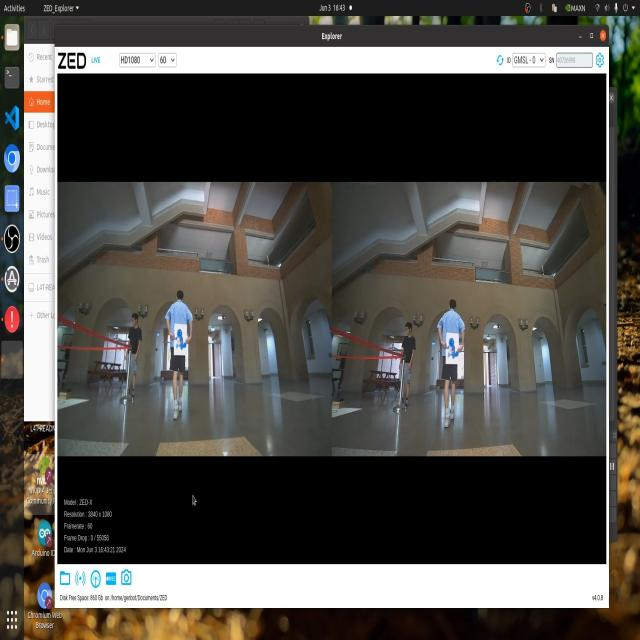blue: (443, 324, 465, 368), (173, 320, 187, 348)
